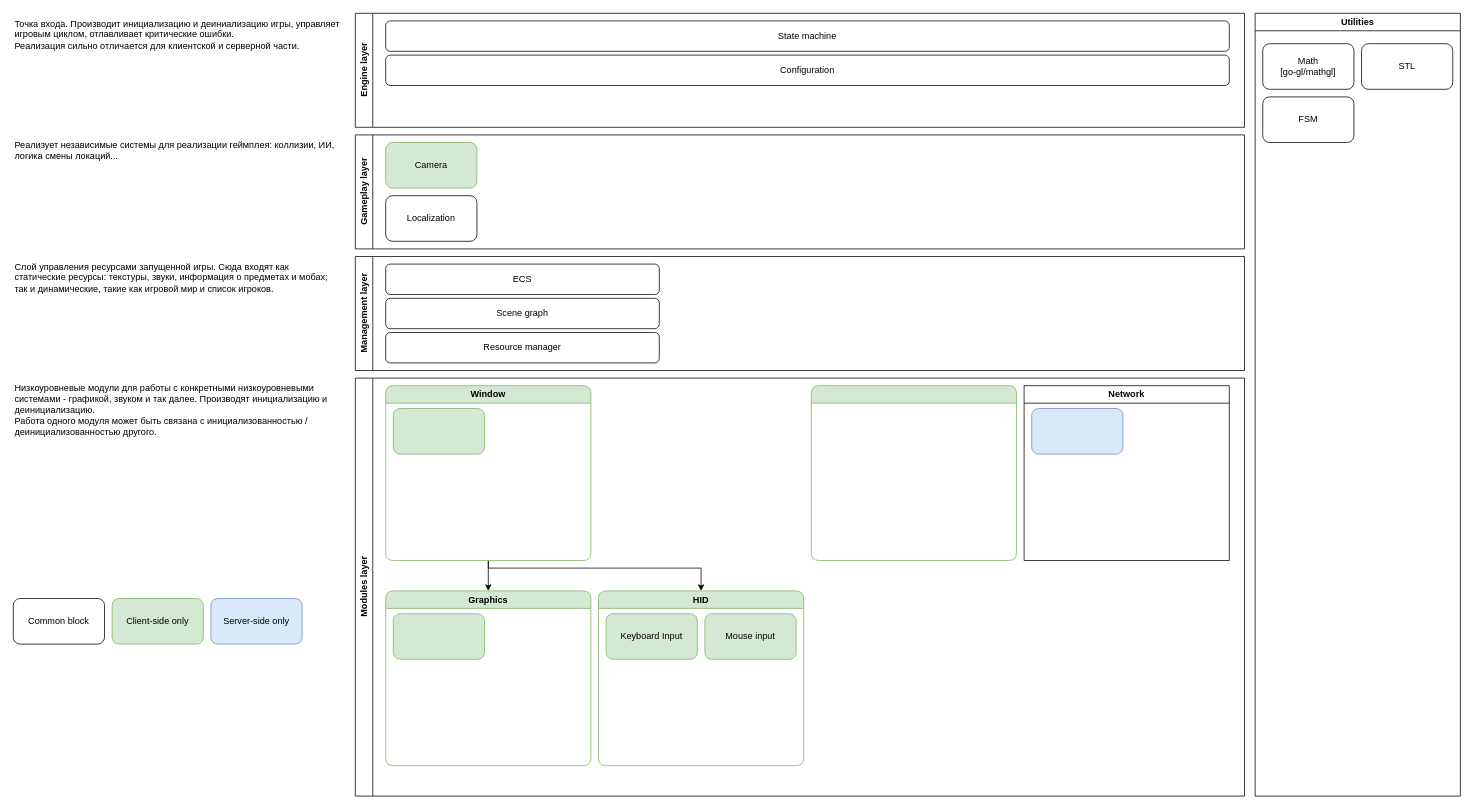
Image size: 1474x809. Some labels were removed from this diagram. Each missing label, with the centre of its shape:
Audio: point 913,472
Http server: point 1077,431
Meshes: point 438,636
Window [go-gl/glfw]: point 438,431
